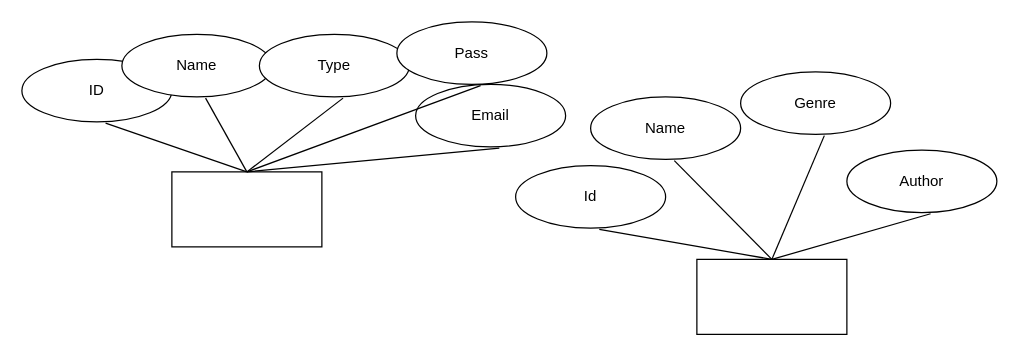
Image size: 1019x356. Some labels were removed from this diagram. The centre of each missing label's shape, as x and y in pixels:
"Books" goes at (x=771, y=296).
"User" goes at (x=246, y=209).
